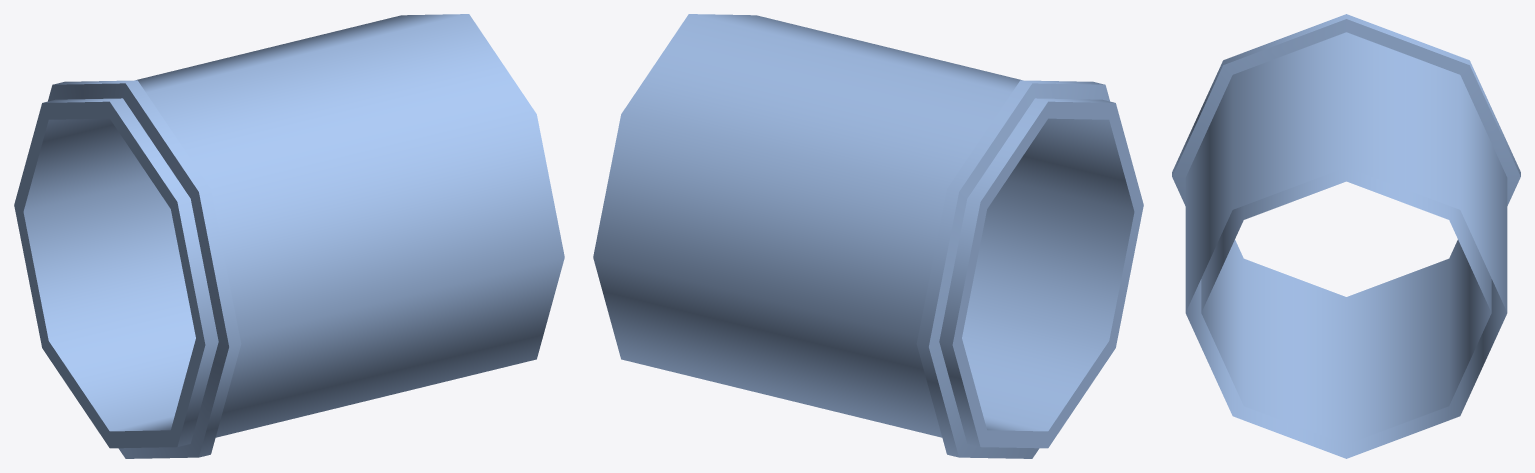
Rendered from PipeSmall_ConnectorWall_Hollow.fbx.
3 renders of one model, left to right at view 1: azimuth 30°, elevation 25°; view 2: azimuth 150°, elevation 25°; view 3: azimuth 270°, elevation 25°, orthographic. The views are drawn at different scales.
Visible parts, largest first — view 1: PipeSmall_ConnectorWall_Hollow.001; view 2: PipeSmall_ConnectorWall_Hollow.001; view 3: PipeSmall_ConnectorWall_Hollow.001.
Boxes of the visible parts, x1,y1,x2,y2 form: PipeSmall_ConnectorWall_Hollow.001: (14,14,564,458); PipeSmall_ConnectorWall_Hollow.001: (593,14,1143,458); PipeSmall_ConnectorWall_Hollow.001: (1172,14,1520,458).
Size of the model in its own units: 0.1169 by 0.1167 by 0.1167.
